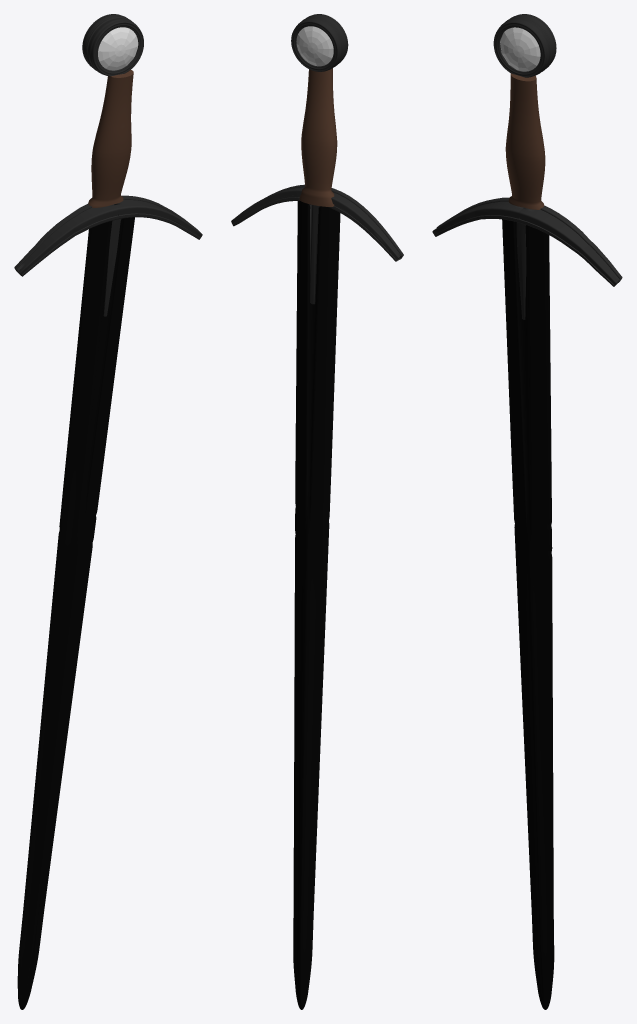
The model's file is sword1.FBX.
3 renders of one model, left to right at view 1: azimuth 30°, elevation 25°; view 2: azimuth 150°, elevation 25°; view 3: azimuth 330°, elevation 25°, orthographic. The views are drawn at different scales.
Parts seen in each view (by area): view 1: Blade, Handle, prot, Outer ring, Ruby; view 2: Blade, Handle, prot, Outer ring, Ruby; view 3: Blade, prot, Handle, Outer ring, Ruby.
Part boxes in pixels (bbox=[...]): Blade: bbox=[17, 217, 134, 1009]; Handle: bbox=[88, 70, 133, 207]; prot: bbox=[14, 195, 202, 316]; Outer ring: bbox=[82, 14, 143, 76]; Ruby: bbox=[98, 27, 138, 70]; Blade: bbox=[293, 201, 340, 1009]; Handle: bbox=[299, 68, 337, 206]; prot: bbox=[231, 184, 403, 304]; Outer ring: bbox=[291, 14, 348, 71]; Ruby: bbox=[296, 26, 333, 66]; Blade: bbox=[502, 219, 554, 1009]; prot: bbox=[432, 197, 622, 319]; Handle: bbox=[505, 73, 545, 209]; Outer ring: bbox=[493, 14, 556, 77]; Ruby: bbox=[500, 27, 540, 71].
Size of the model in its own units: 4.14 by 22.25 by 2.55.
